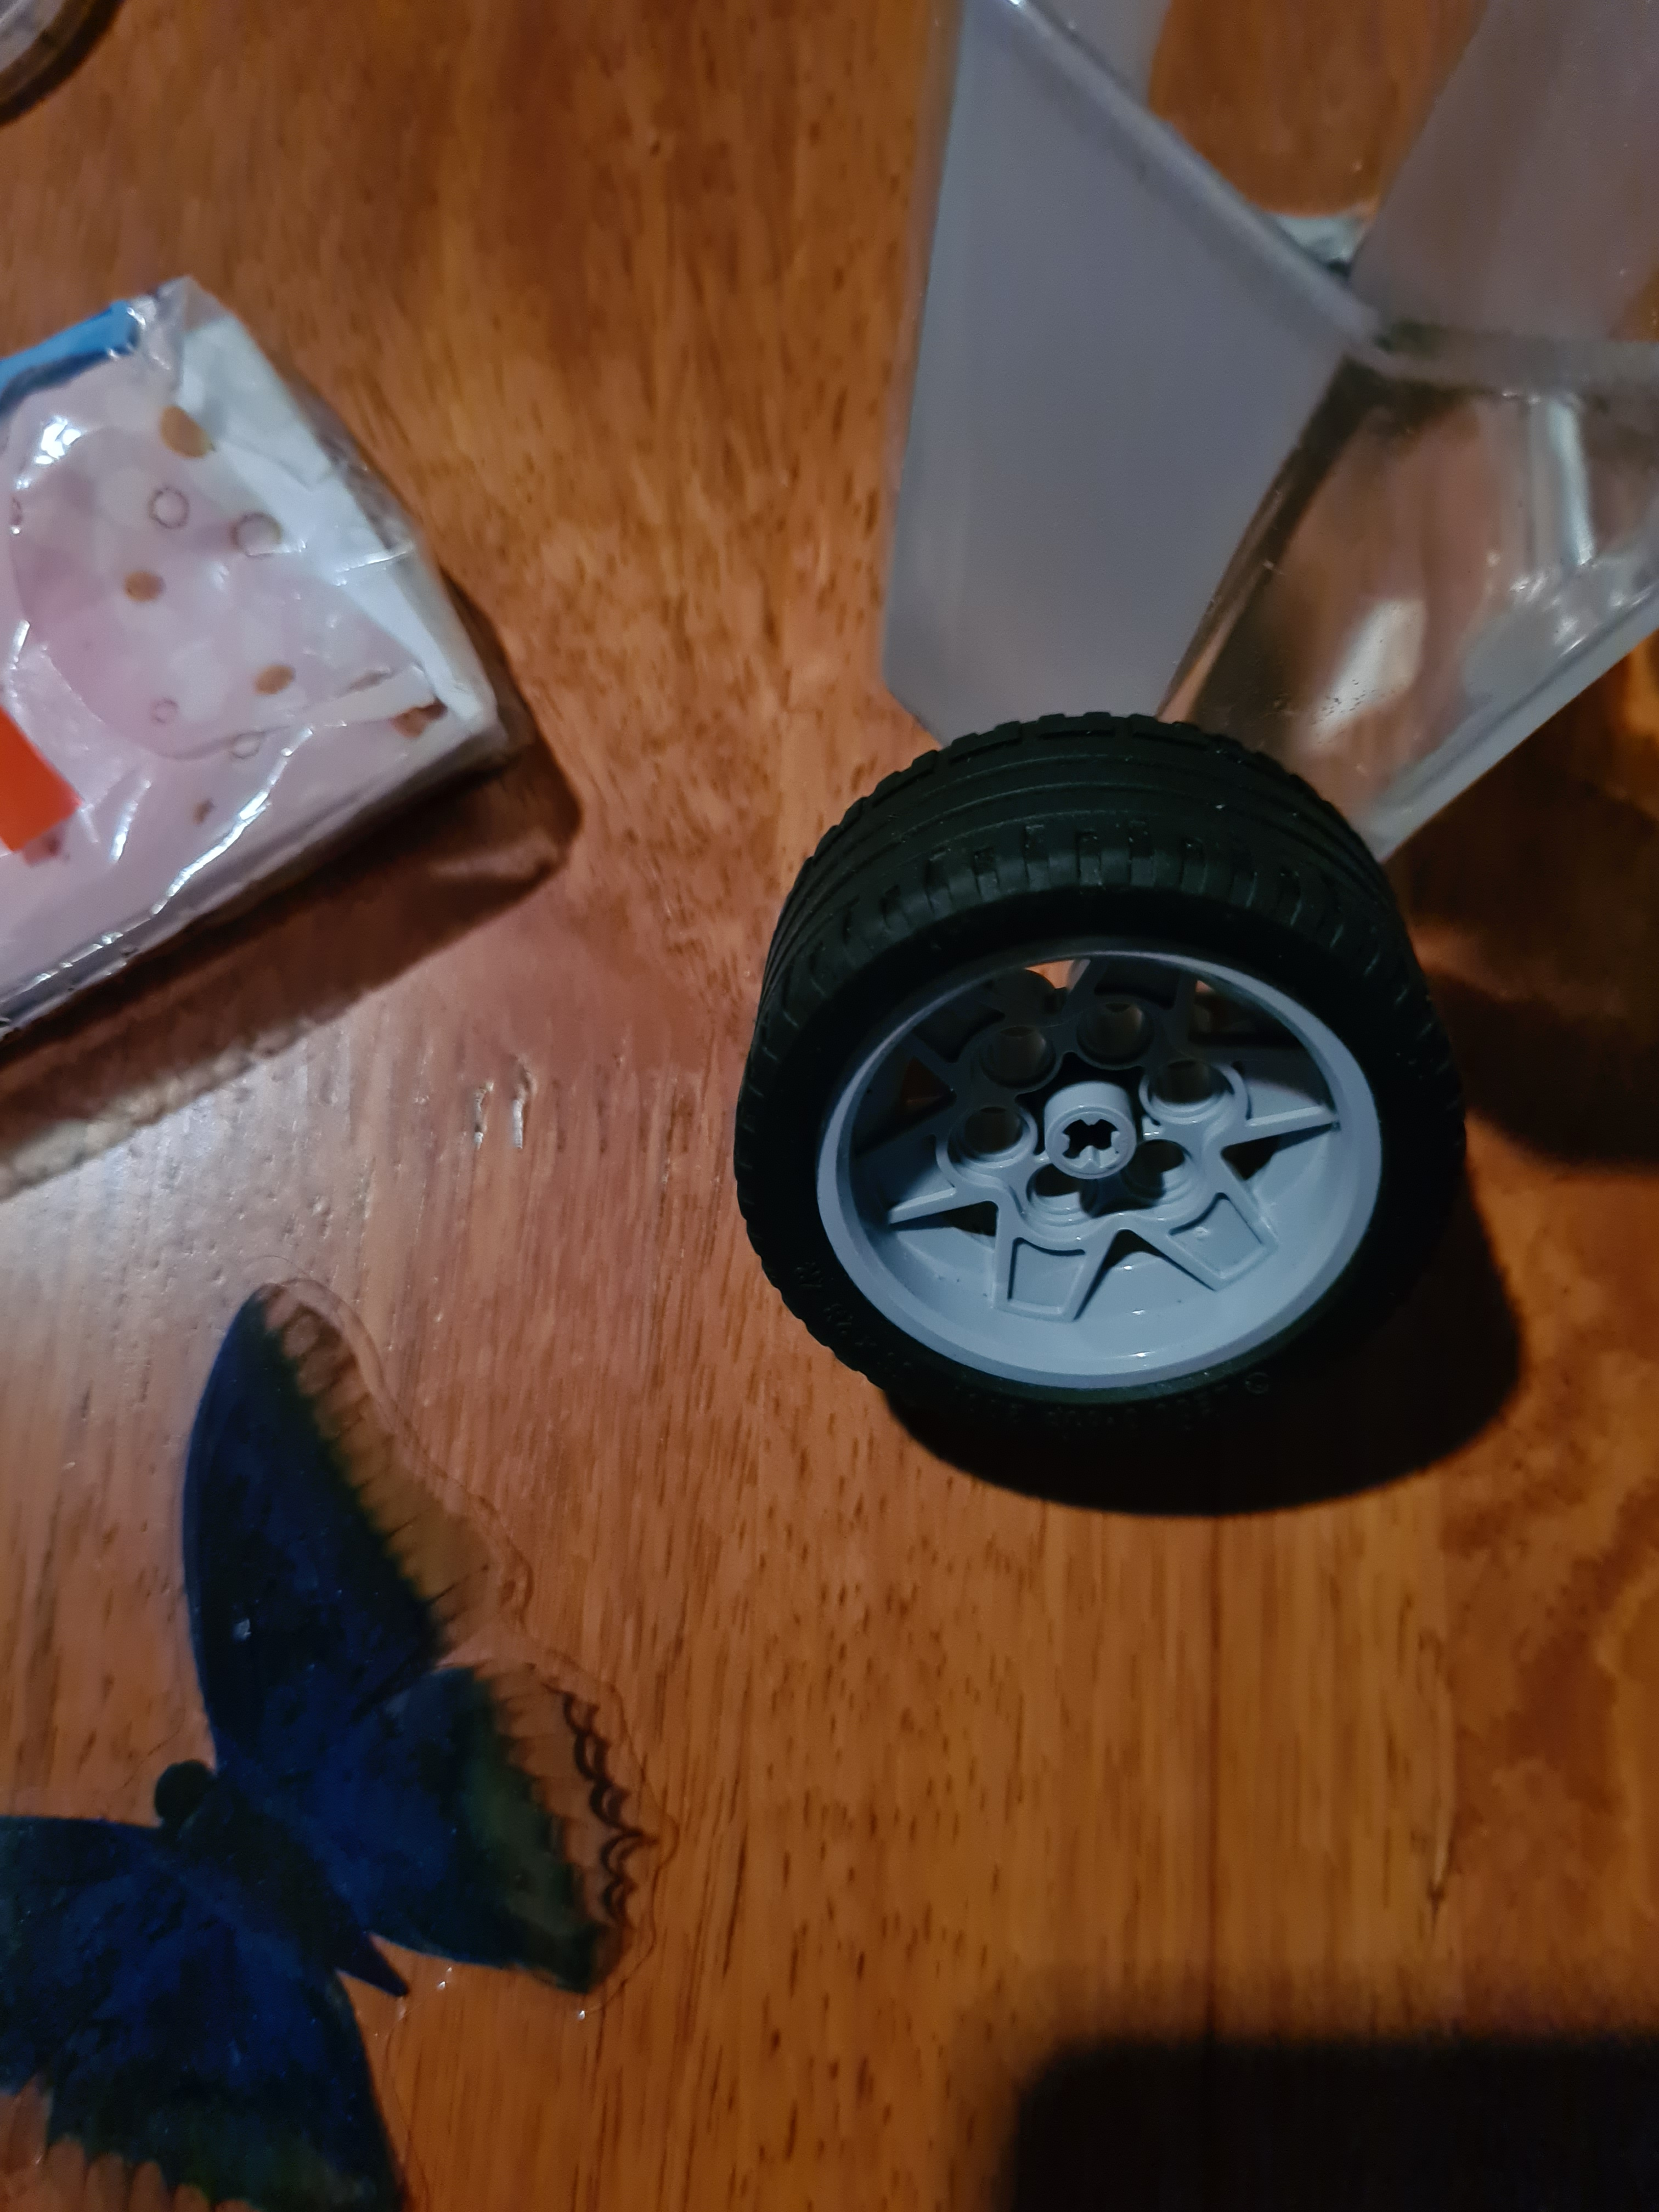Rad: (720, 697, 1483, 1487)
